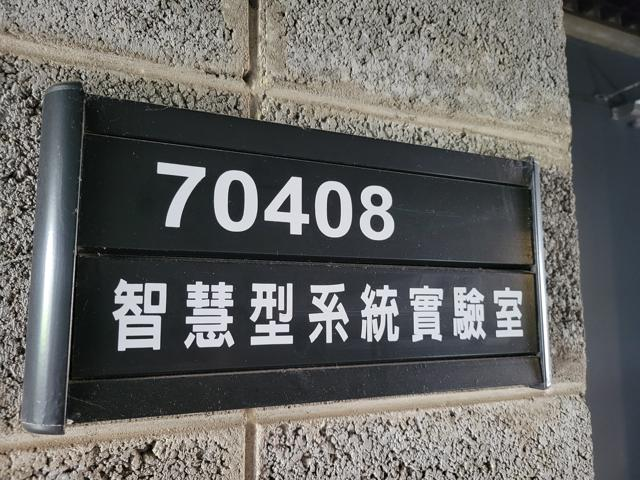doorplate: (13, 71, 555, 435)
